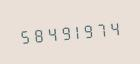eight: (30, 23, 42, 46)
five: (17, 24, 29, 47)
four: (43, 22, 55, 45), (108, 16, 120, 39)
nine: (56, 21, 68, 44), (82, 18, 94, 41)
one: (69, 20, 81, 42)
seven: (95, 17, 107, 40)
